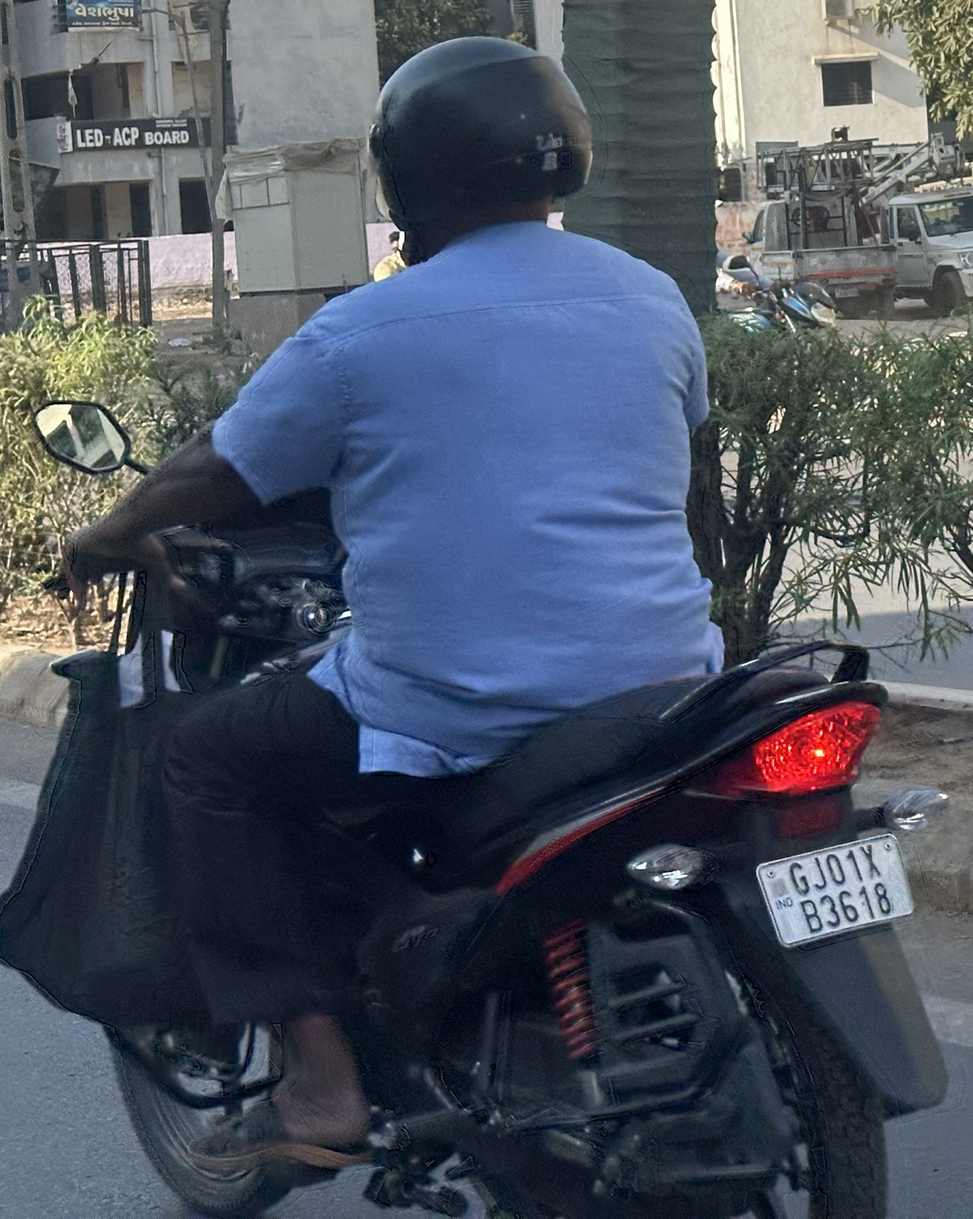BikeWithRider: (0, 25, 959, 1219)
Helmet: (354, 27, 599, 276)
